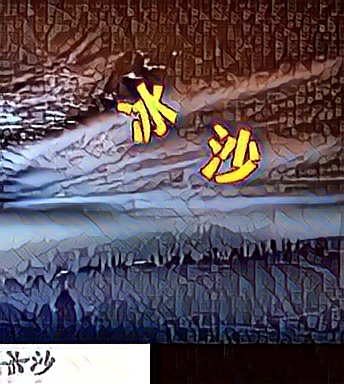B1F9: (114, 77, 177, 143)
C9B3: (199, 120, 262, 186)
